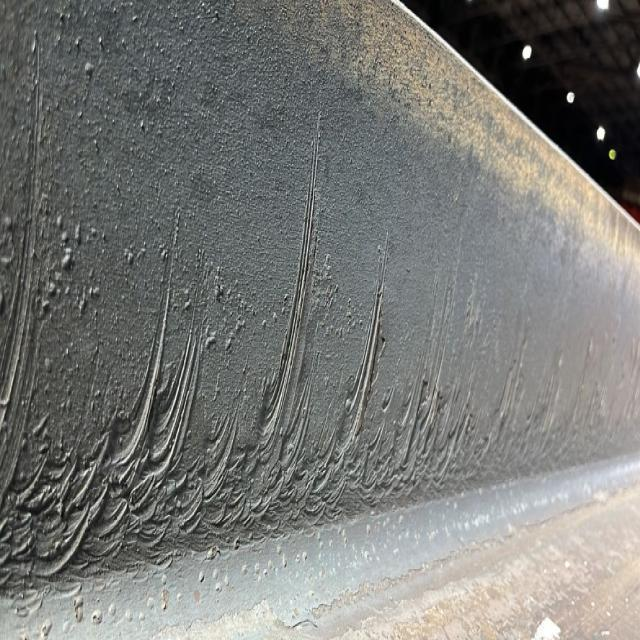defect: (0, 125, 552, 587)
